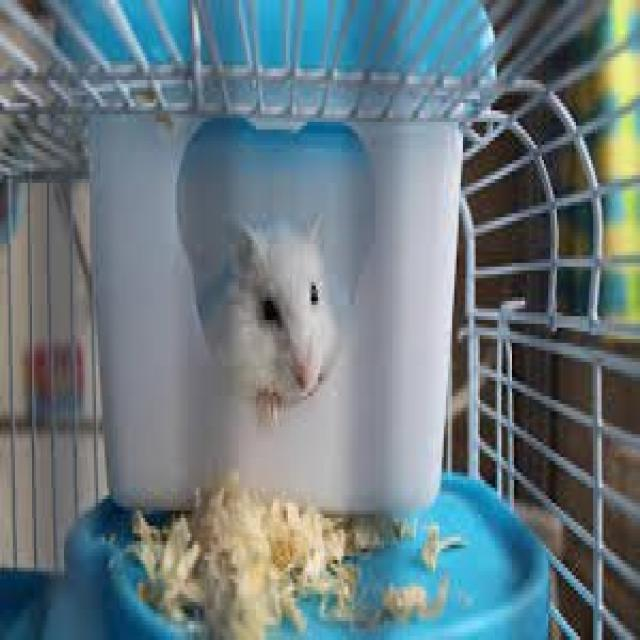hamster: (200, 190, 319, 424)
